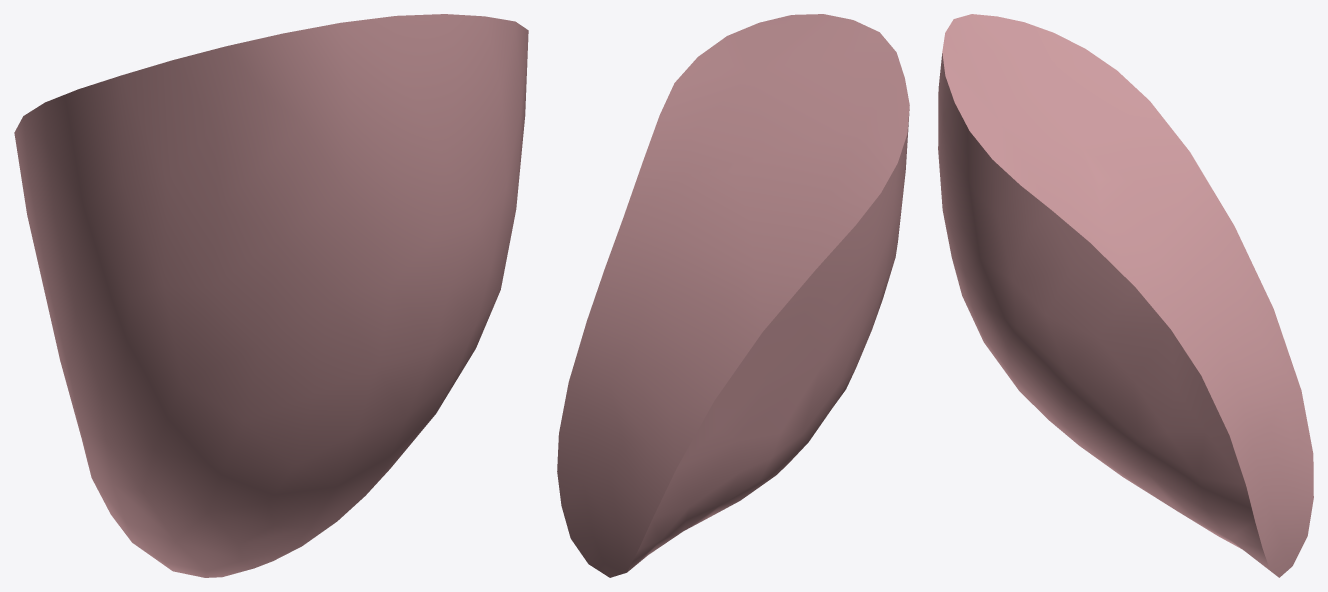
Rendered from fma49466_mm1603m.glb.
3 views of the same model, side by side, from view 1: azimuth 30°, elevation 25°; view 2: azimuth 150°, elevation 25°; view 3: azimuth 270°, elevation 25° (orthographic). The views are drawn at different scales.
Parts seen in each view (by area): view 1: FMA49466_MM1603M; view 2: FMA49466_MM1603M; view 3: FMA49466_MM1603M.
Part boxes in pixels (x1,y1,x2,y2): FMA49466_MM1603M: (14, 14, 528, 577); FMA49466_MM1603M: (557, 14, 909, 577); FMA49466_MM1603M: (938, 14, 1313, 577).
Bounding box in the file's own units: 0.0114 × 0.0189 × 0.0131.
